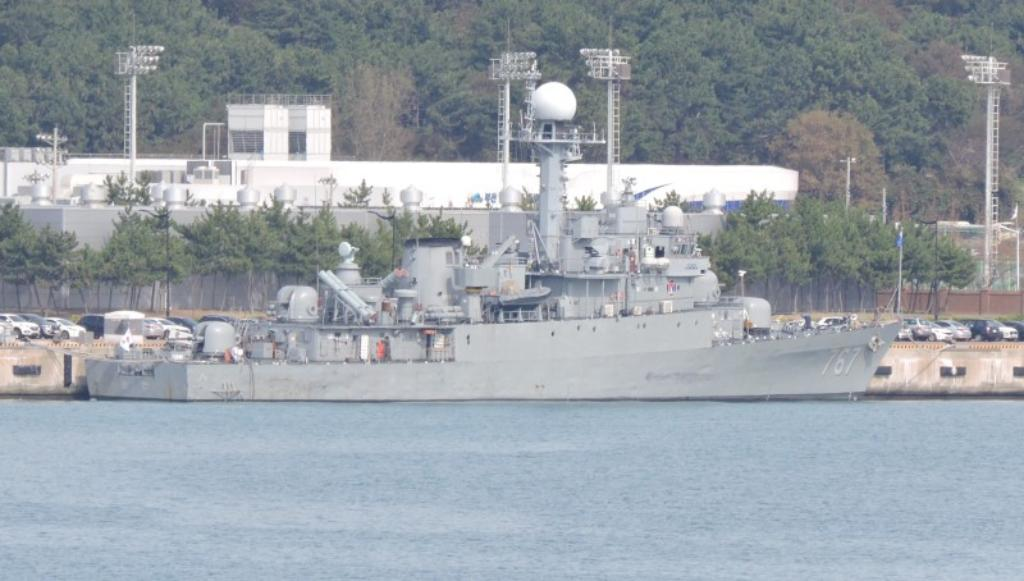Warship: (84, 86, 906, 400)
